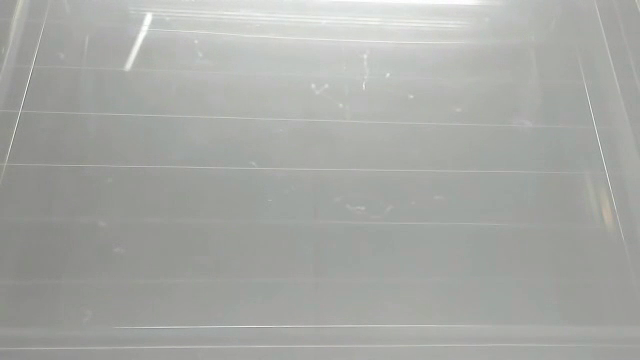alpha: (123, 11, 154, 74)
